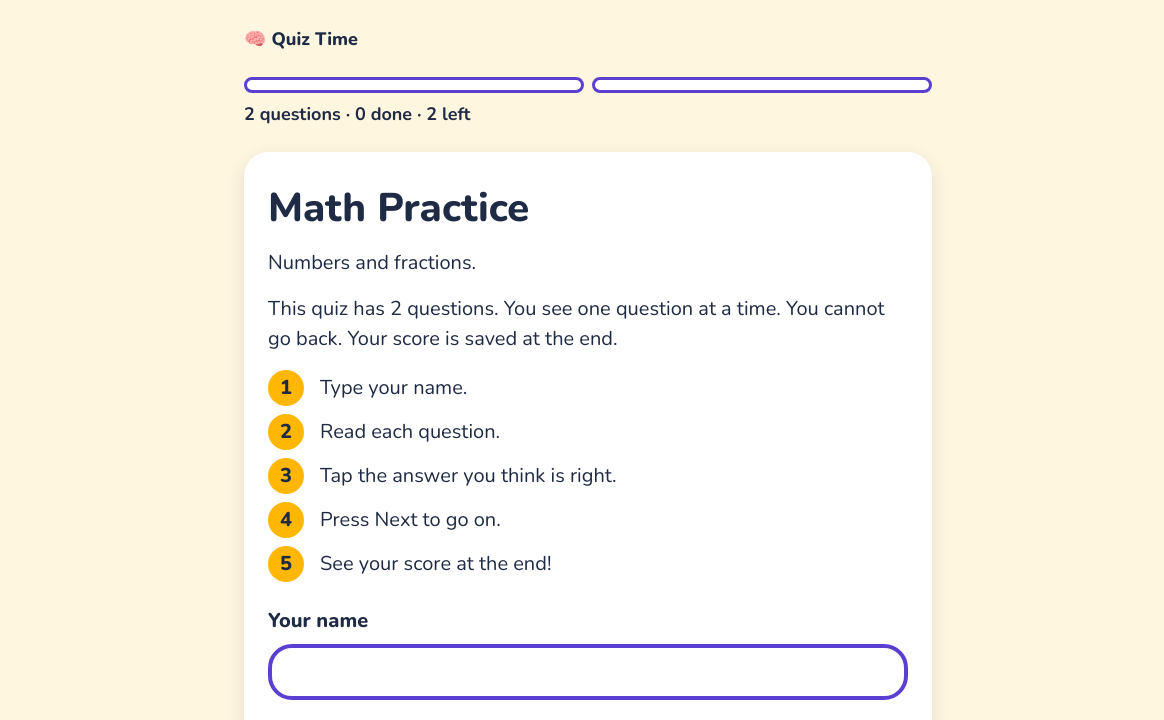
Scenario: QuestionPage › shows Finish on the last question and Next before it
Type "Sam" into the field labelled "Your name".
click(588, 672); type("Sam")  # box 268,644 -> 908,700
(page scrolled)
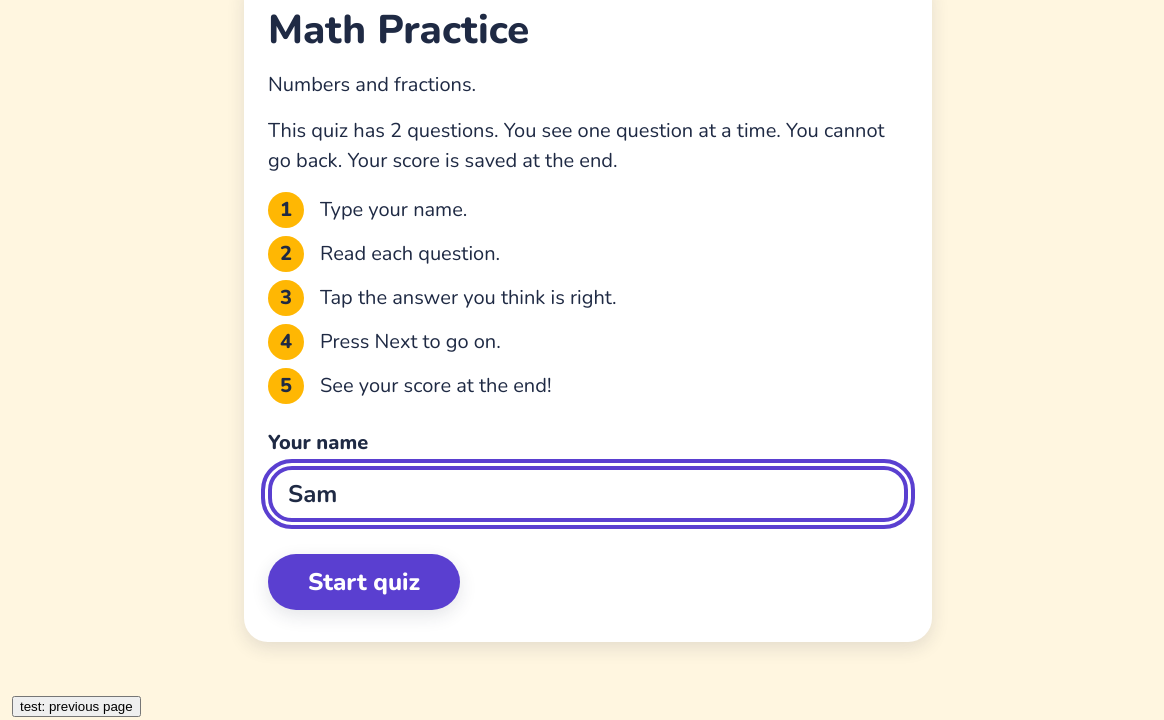
Click the button "Start quiz".
click(364, 582)  # box 268,554 -> 460,610
(page scrolled)
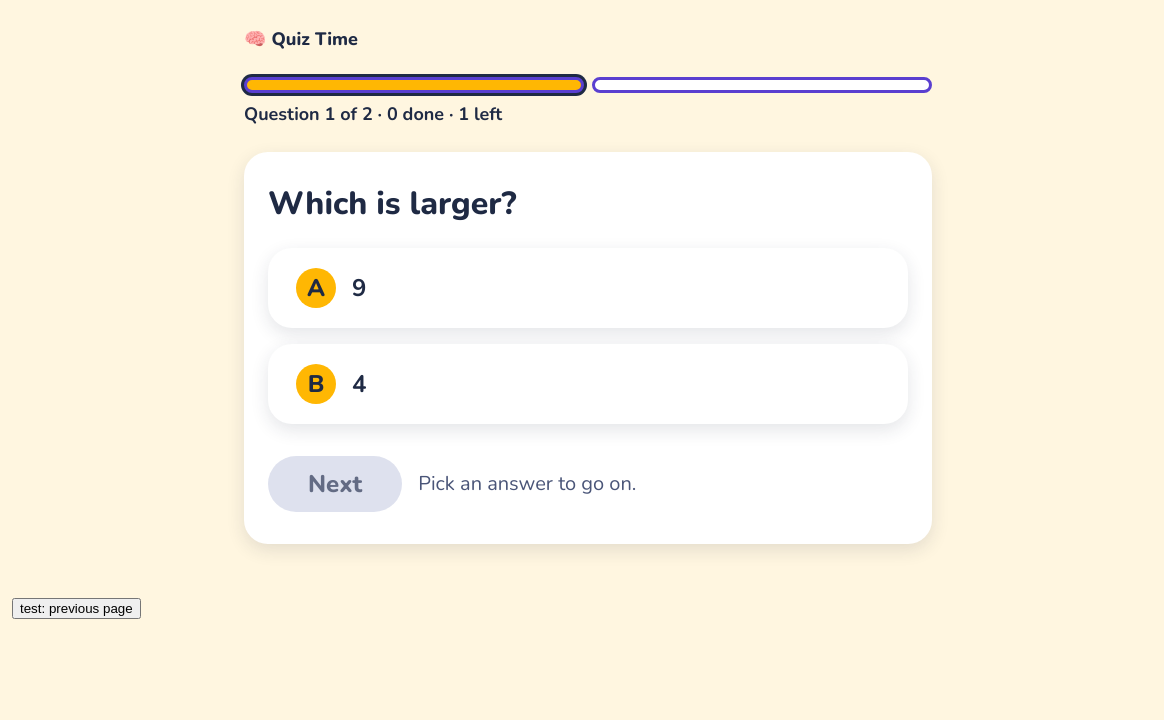
Result: the text "Question 1 of 2 · 0 done · 1 left" is shown at 244,102 -> 502,126
Click the radio button labelled "A 9".
click(316, 288)  # box 268,248 -> 908,328
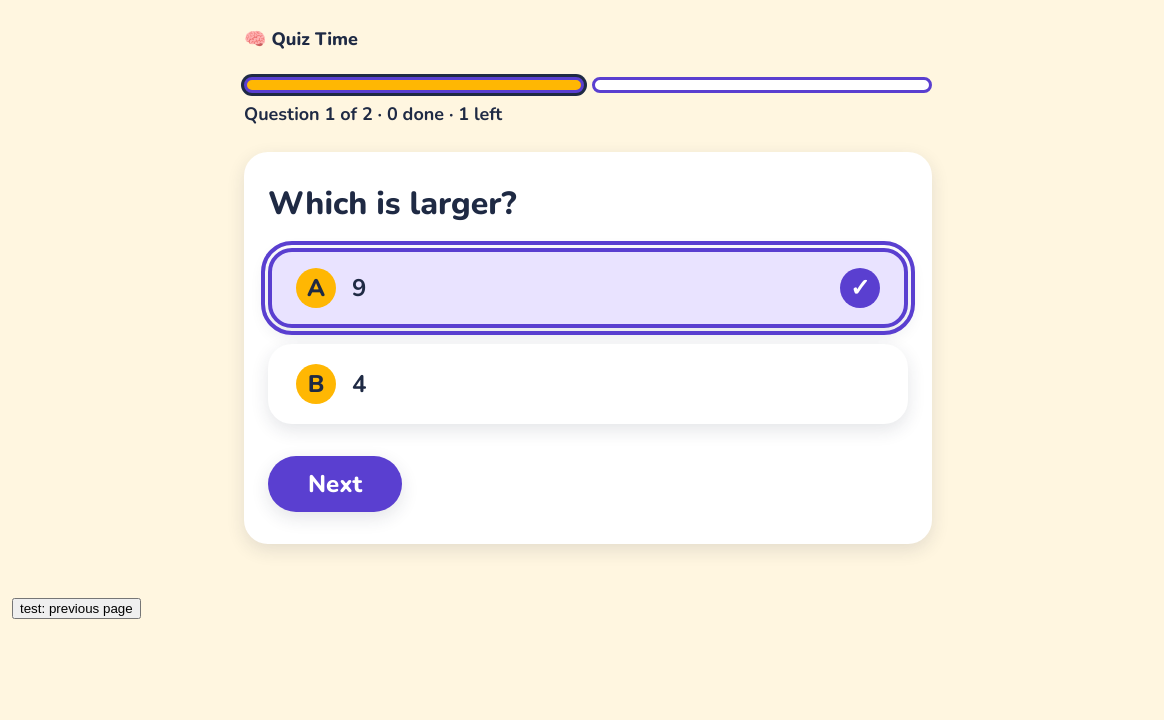
Click the button "Next".
click(335, 484)  # box 268,456 -> 402,512
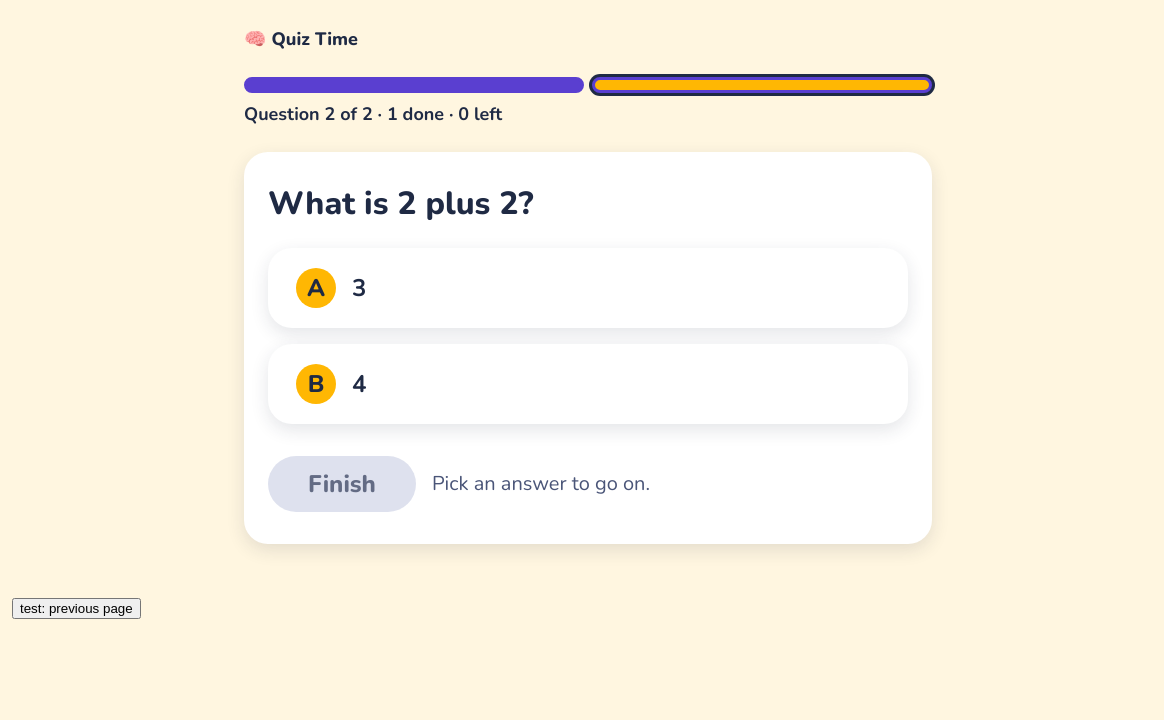
Result: the text "Question 2 of 2 · 1 done · 0 left" is shown at 244,102 -> 502,126
Result: the button "Finish" is disabled at 268,456 -> 416,512
Result: the button "Next" is gone
